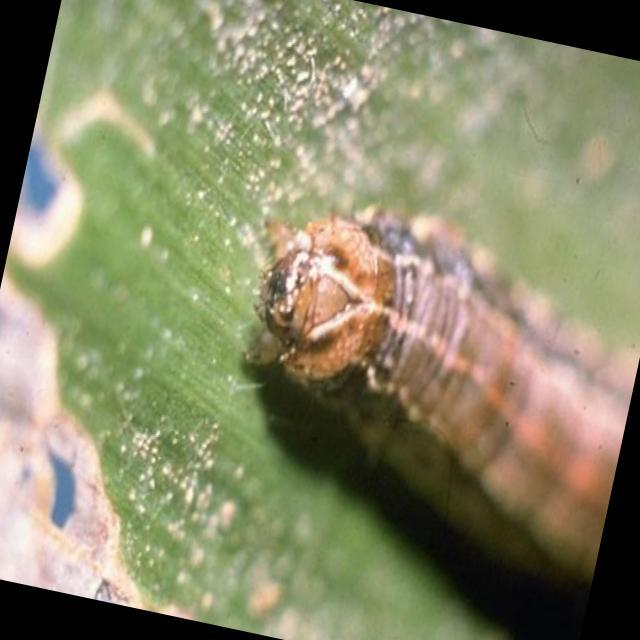Plaga: (182, 176, 640, 627)
